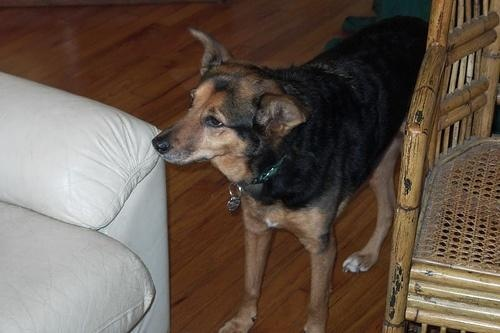chair: (1, 43, 171, 333), (386, 2, 500, 333)
dog: (143, 9, 445, 331)
